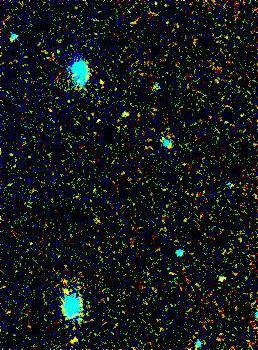star: (61, 325, 91, 350)
